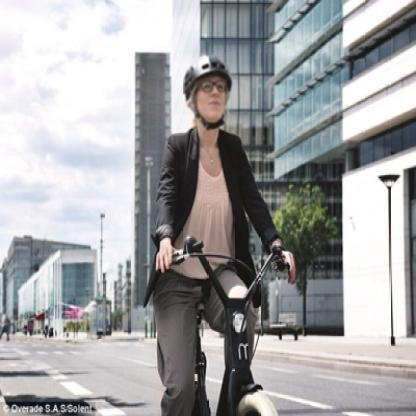Helmet: (180, 54, 237, 134)
